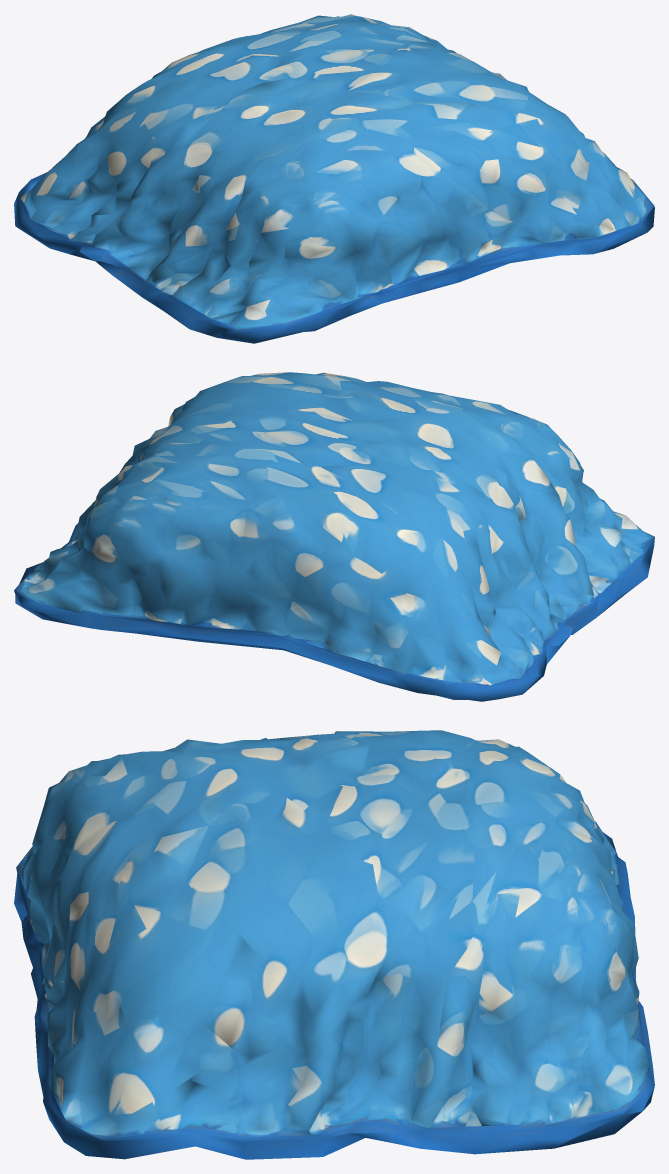
The model's file is blanket.fbx.
The picture shows the model from 3 angles, top to bottom: view 1: azimuth 30°, elevation 25°; view 2: azimuth 150°, elevation 25°; view 3: azimuth 270°, elevation 25°; orthographic projection. The views are drawn at different scales.
Visible parts, largest first — view 1: tripo_node_63224e55; view 2: tripo_node_63224e55; view 3: tripo_node_63224e55.
Boxes of the visible parts, <box> form: tripo_node_63224e55: <box>14,14,654,343</box>; tripo_node_63224e55: <box>14,372,654,701</box>; tripo_node_63224e55: <box>14,730,654,1159</box>.
Bounding box in the file's own units: 0.34 × 0.1 × 0.27.
1 material, 1 textured.
